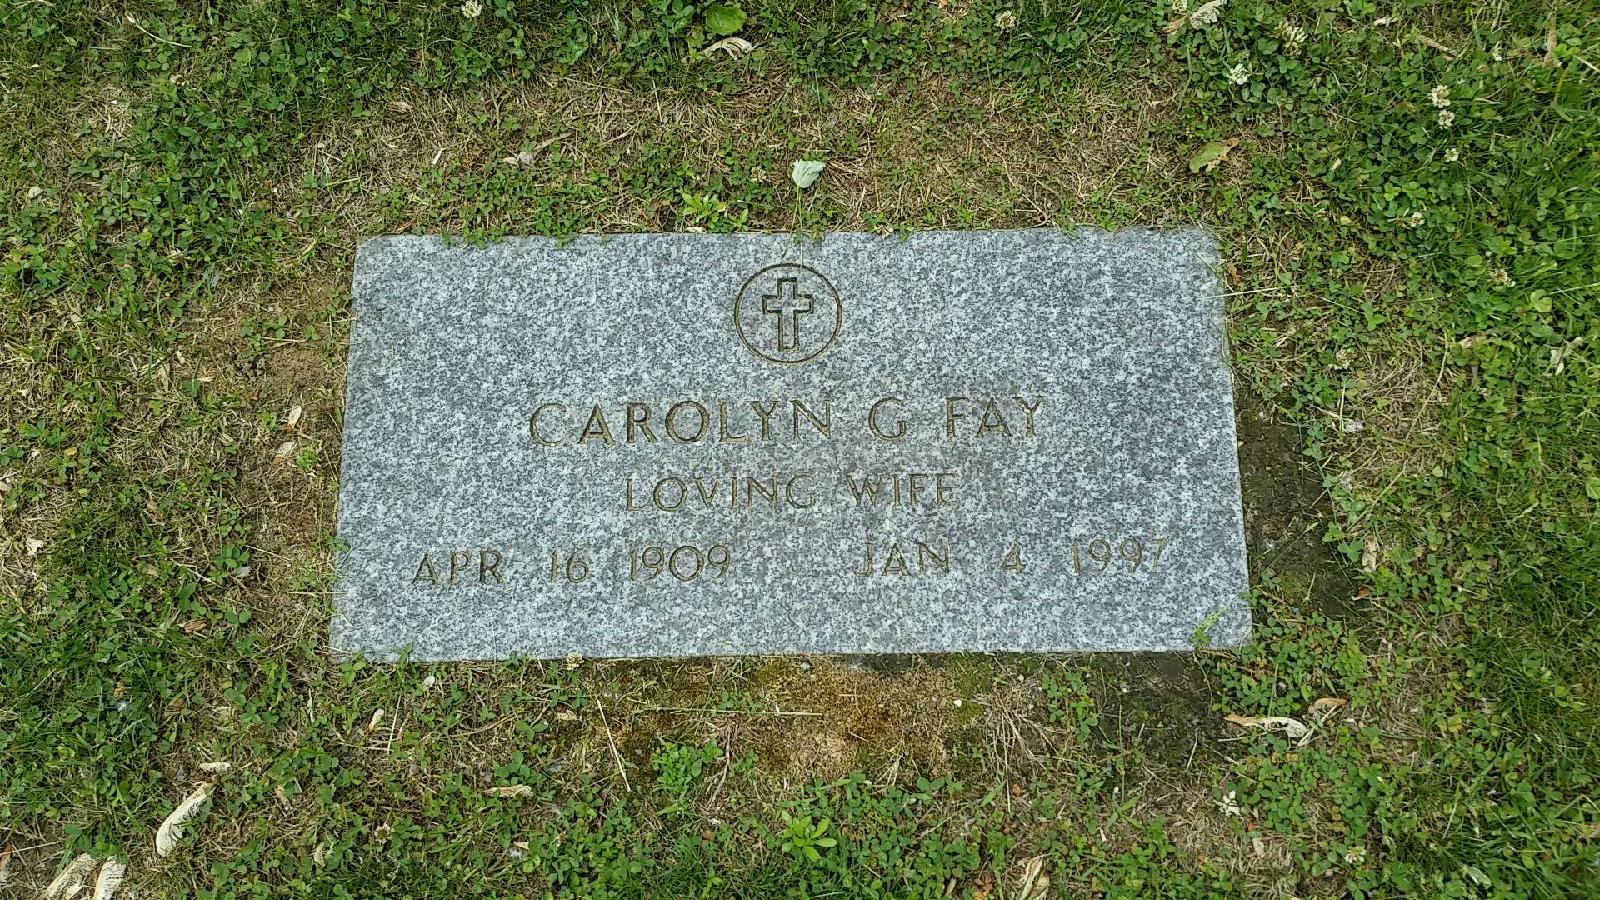flat: (343, 222, 1253, 659)
